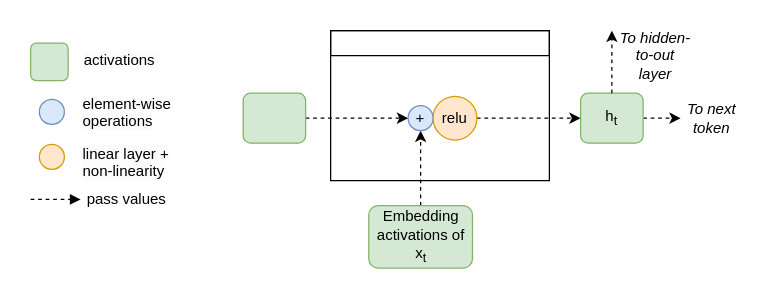
The diagram is 771 pixels wide and 290 high, and some of its shapes have lost their labels. The box of each missing label's shape, as (x1, y1, x2, y2) in pixels:
h t-1: (242, 92, 306, 143)
RNN Cell: (329, 29, 549, 56)
